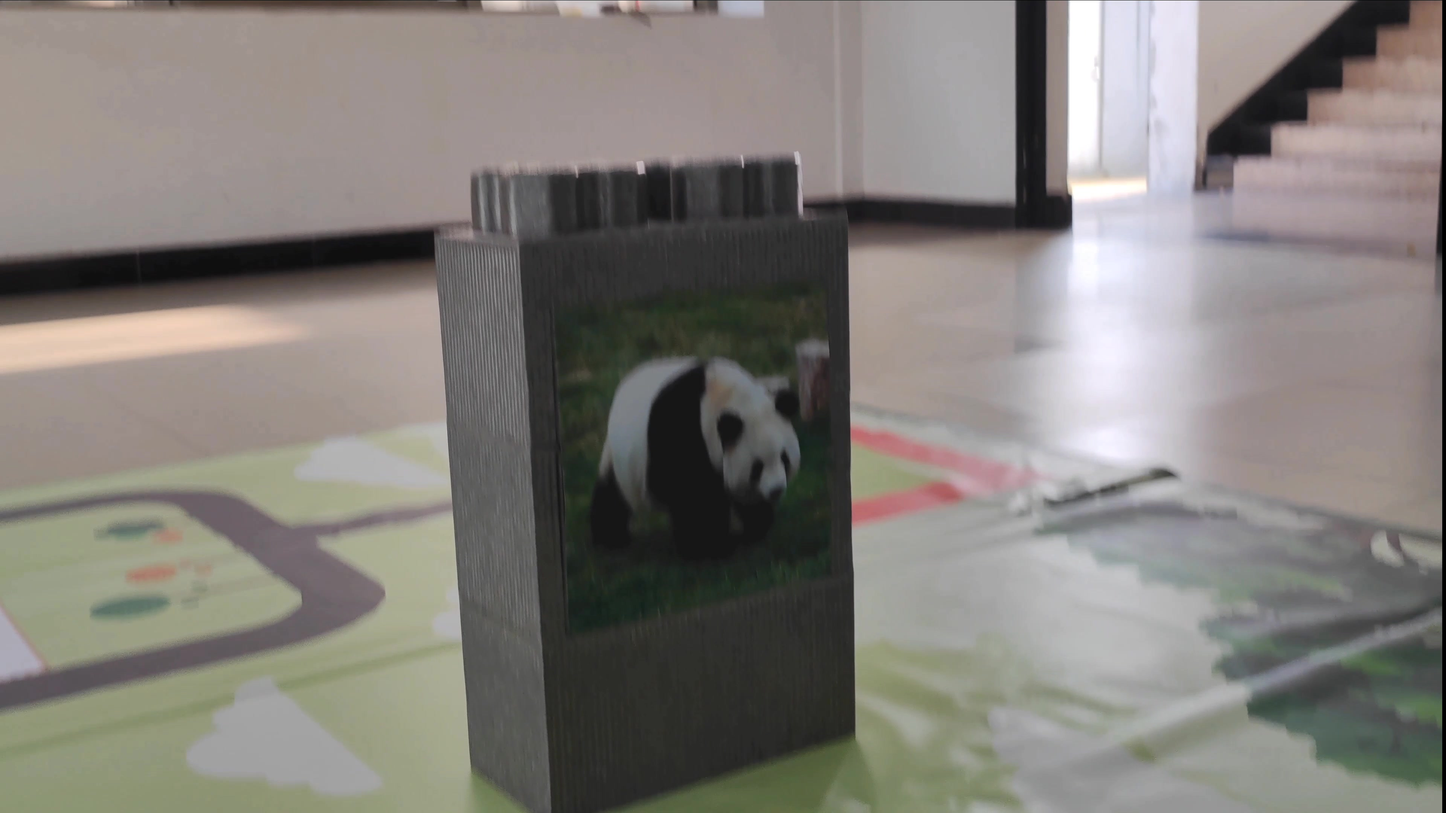panda: (571, 318, 807, 589)
